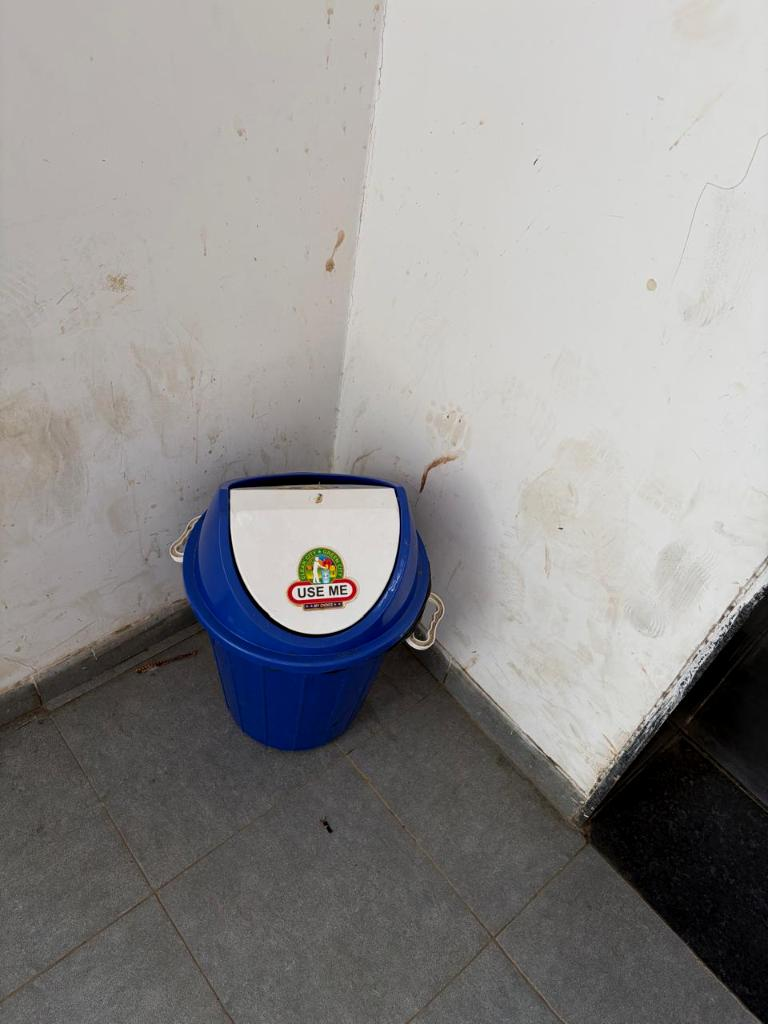dustbin: (174, 467, 459, 757)
